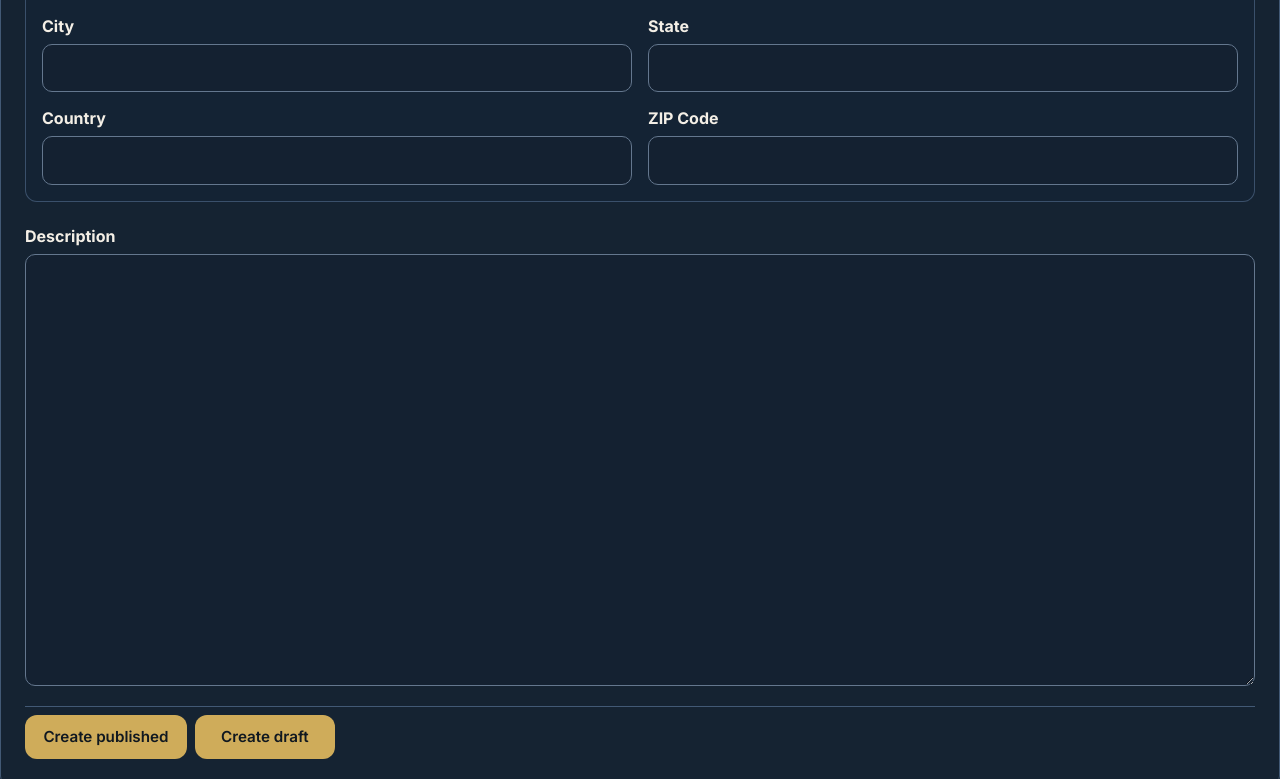
Test: EventEditorForm › shows local validation errors and scrolls to the first invalid field
(page scrolled)
Click the button "Create published": (106, 737) [25, 715, 187, 759]
(page scrolled)
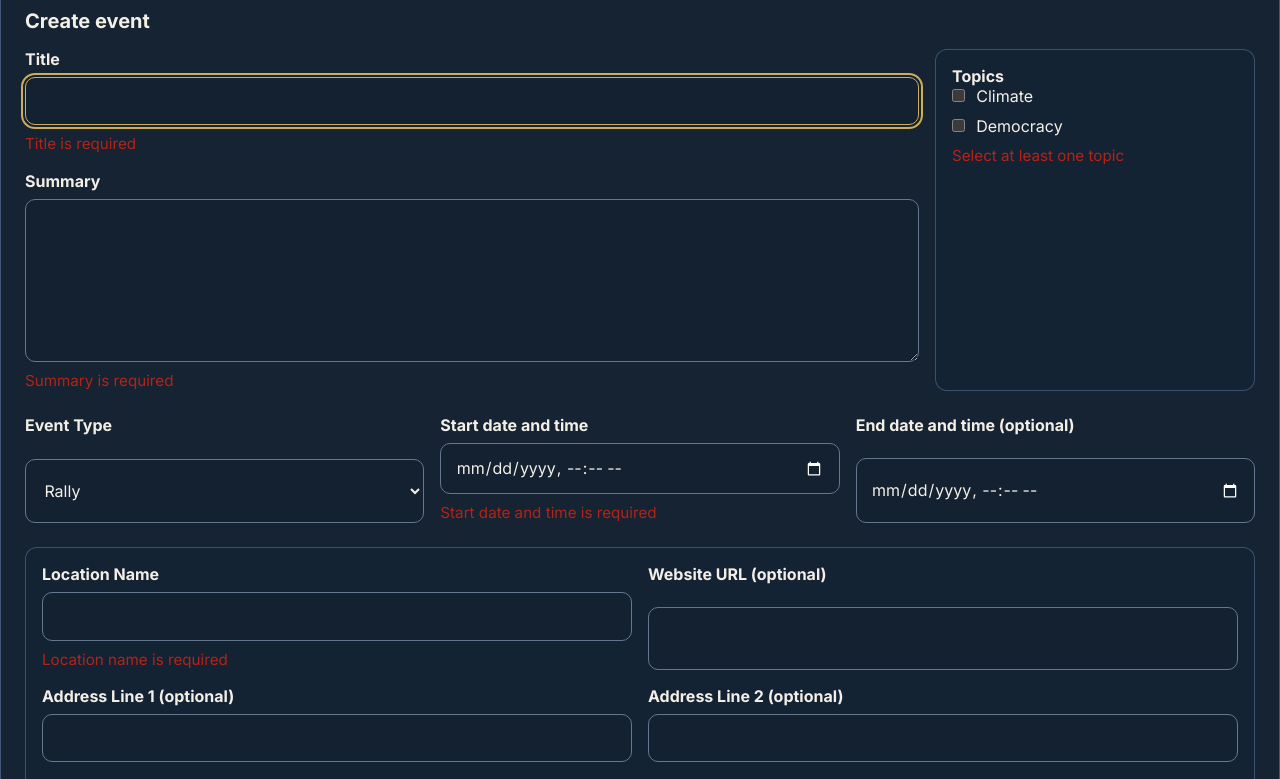
Result: the text "Title is required" is shown at [25, 134, 136, 153]
Result: the text "Summary is required" is shown at [25, 371, 174, 390]
Result: the text "Start date and time is required" is shown at [440, 503, 657, 522]
